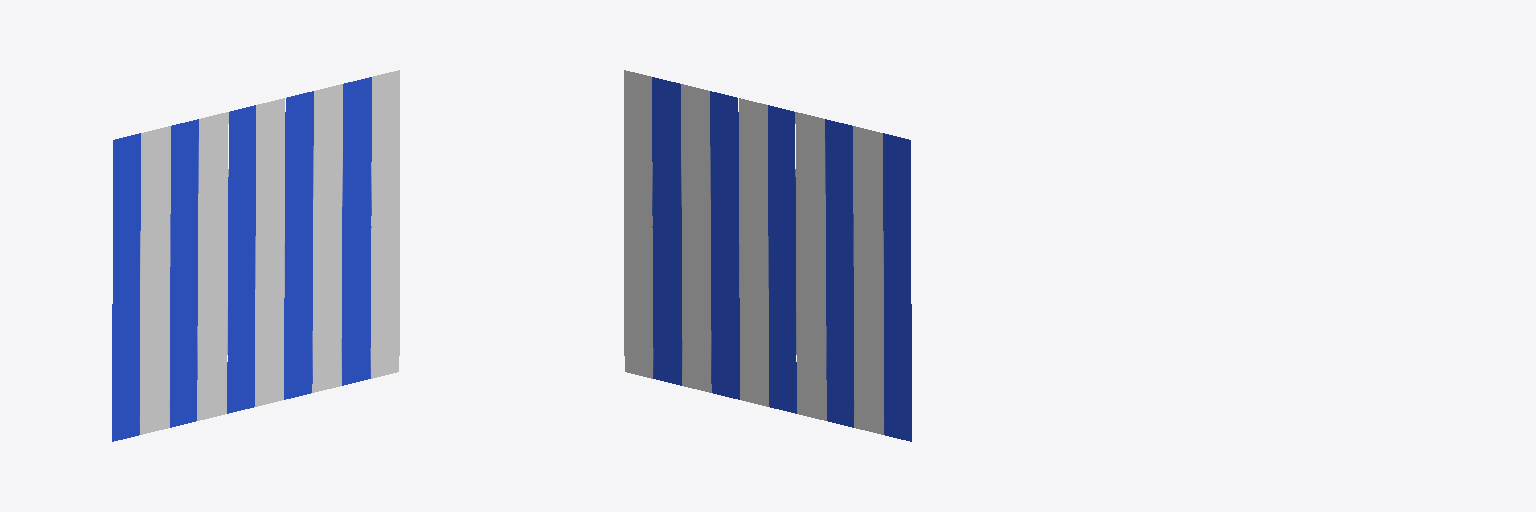
3 renders of one model, left to right at view 1: azimuth 30°, elevation 25°; view 2: azimuth 150°, elevation 25°; view 3: azimuth 270°, elevation 25°, orthographic.
Parts seen in each view (by area): view 1: 平面; view 2: 平面; view 3: none.
Boxes of the visible parts, x1=… form: 平面: x1=112, y1=70, x2=399, y2=441; 平面: x1=624, y1=70, x2=911, y2=441.
Size of the model in its own units: 9.8 by 9.8 by 0.
1 materials, 1 textured.